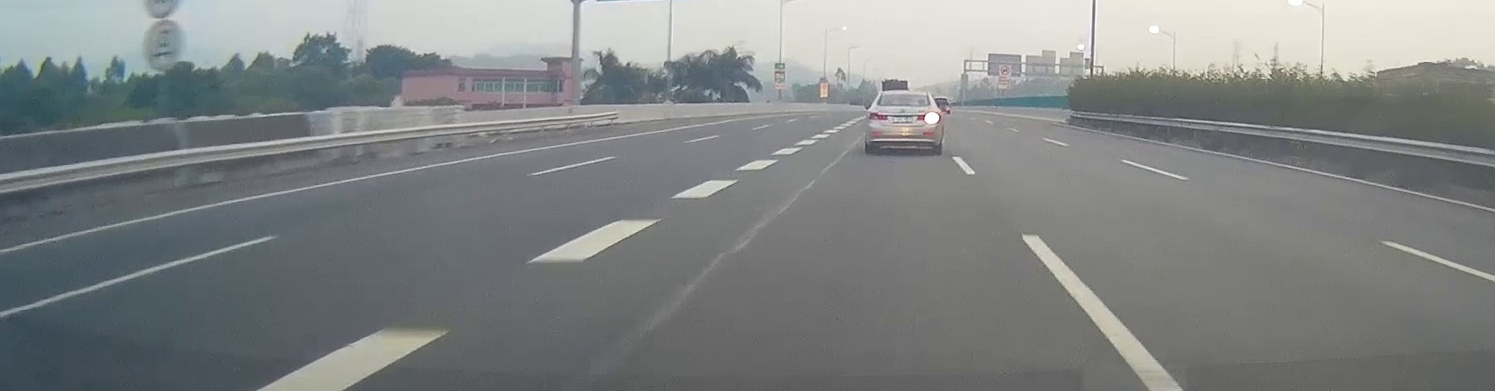L_light: (867, 111, 888, 120)
R_light: (917, 113, 940, 120)
T_light: (901, 93, 911, 95)
day-right: (864, 90, 943, 156)
